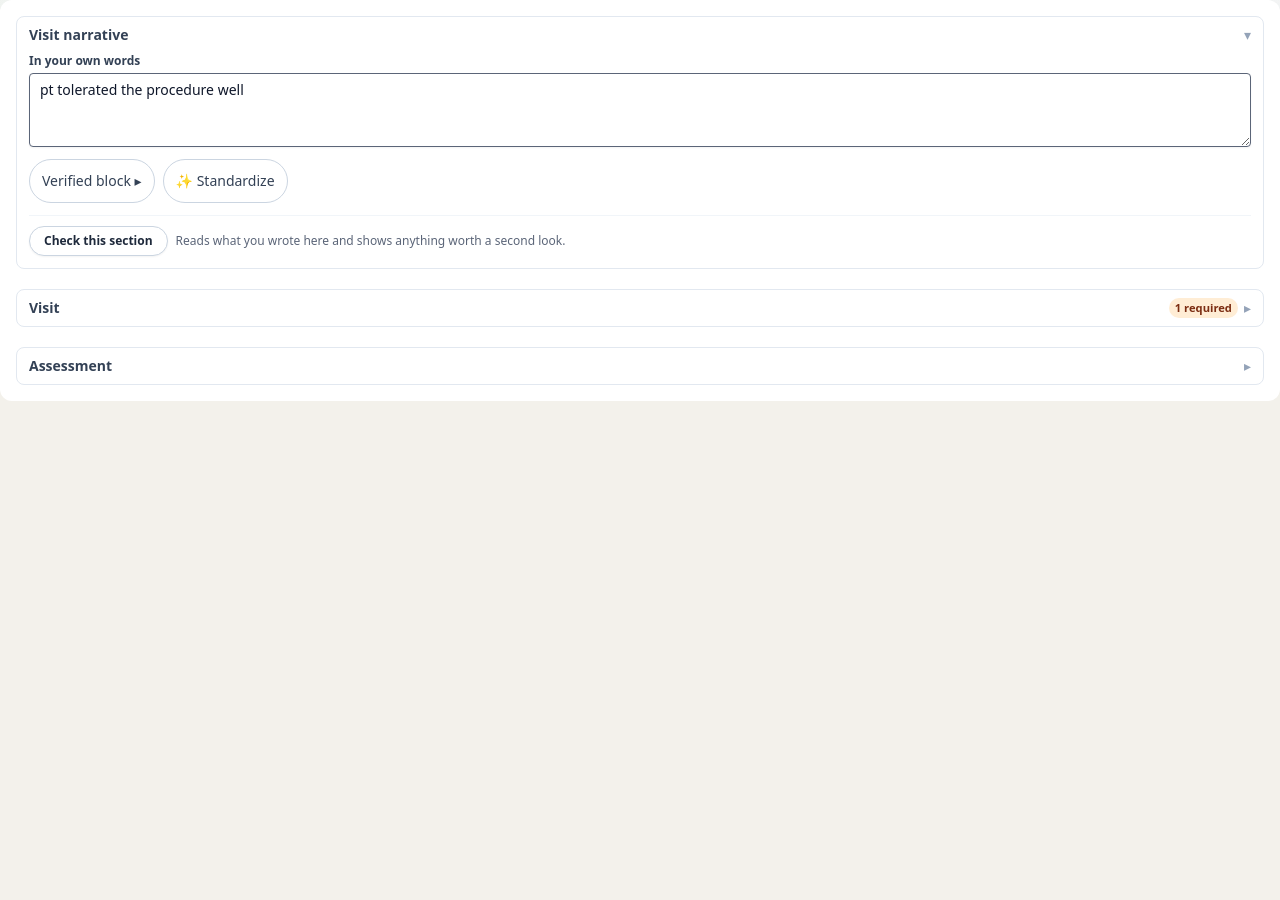
accepting and moving on › lets the writer go back to editing instead
The width and height of the screenshot is (1280, 900).
Click the button "Check this section" at (98, 241), box [29,226,168,256]
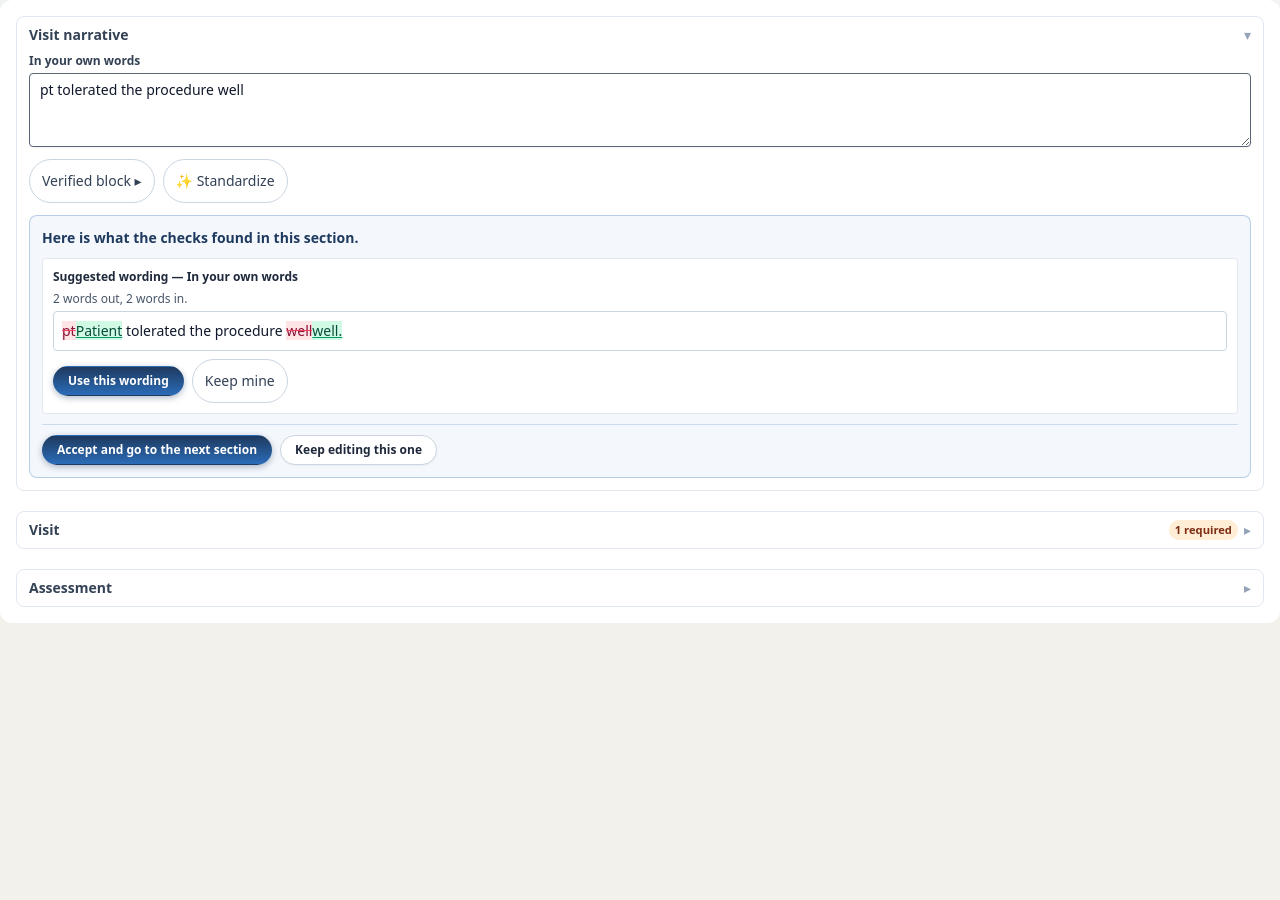
Click the button "Keep editing this one" at (359, 450), box [280,435,437,465]
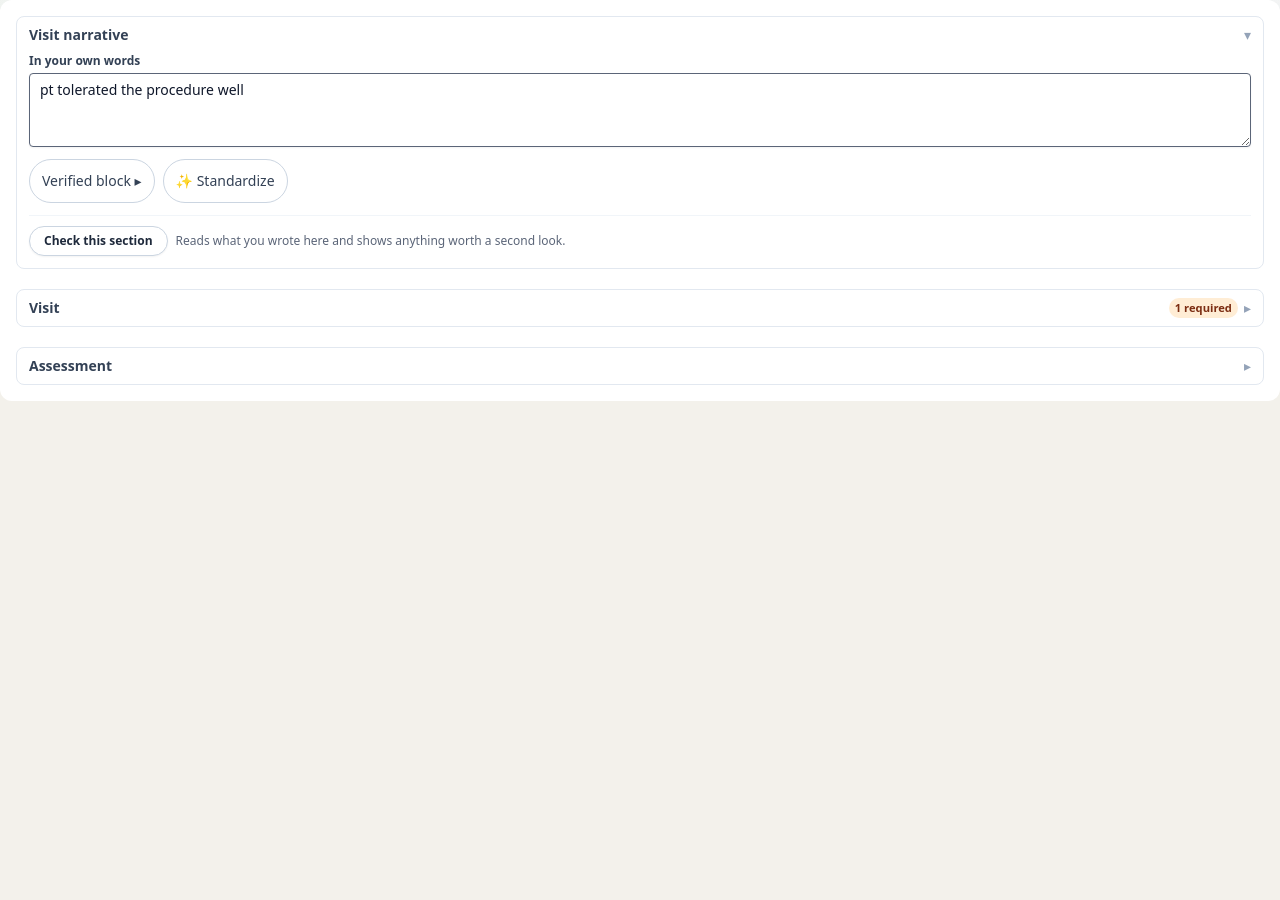
Check: the button "Check this section" is shown, box [29,226,168,256]
